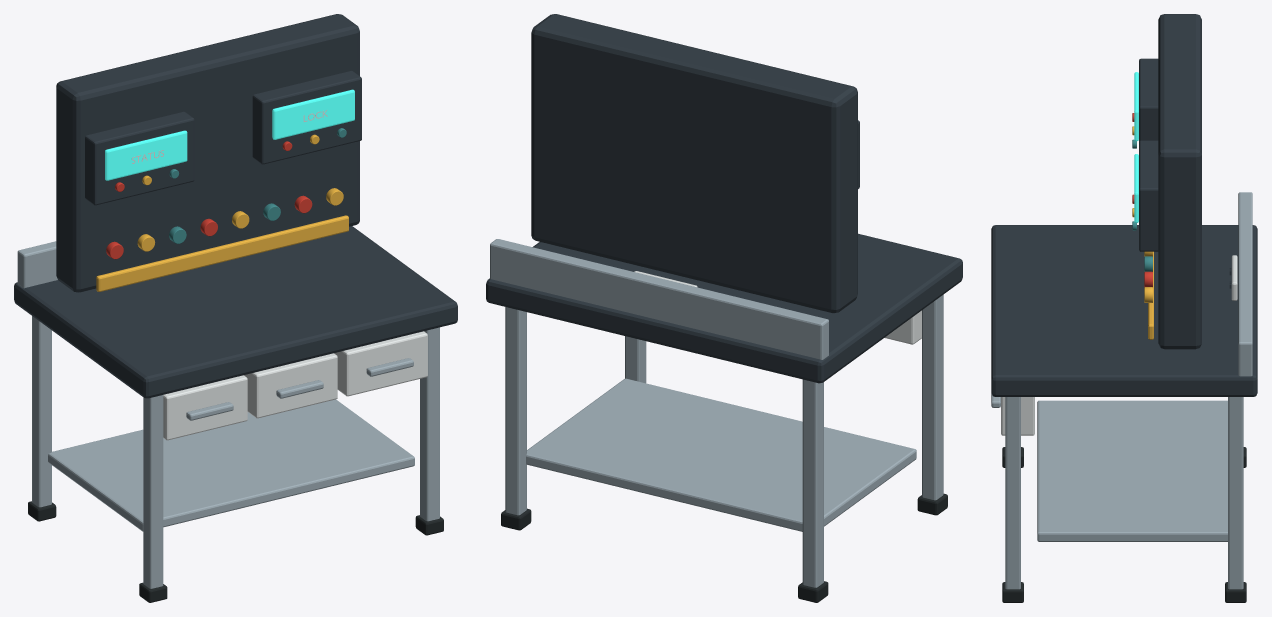
Rendered from safety-console.glb.
3 renders of one model, left to right at view 1: azimuth 30°, elevation 25°; view 2: azimuth 150°, elevation 25°; view 3: azimuth 270°, elevation 25°, orthographic. The views are drawn at different scales.
Visible parts, largest first — view 1: Control panel, Worktop, Equipment shelf, Display housing, Display housing.001, Warning strip, Tubular leg, Cabinet drawer.001, Cabinet drawer.002, Tubular leg.001, Cabinet drawer, Tubular leg.002 (+3 smaller); view 2: Control panel, Equipment shelf, Worktop, Splashback, Tubular leg.001, Tubular leg.003, Tubular leg, Tubular leg.002, Cabinet drawer; view 3: Worktop, Equipment shelf, Control panel, Tubular leg.002, Tubular leg.003, Splashback, Display housing.001, Display housing, Cabinet drawer.002.
Part boxes in pixels (x1,y1,x2,y2): Control panel: [56, 14, 359, 292]; Worktop: [14, 226, 457, 398]; Equipment shelf: [48, 399, 414, 531]; Display housing: [85, 111, 194, 205]; Display housing.001: [252, 71, 361, 164]; Warning strip: [96, 215, 348, 291]; Tubular leg: [143, 395, 163, 588]; Cabinet drawer.001: [244, 353, 337, 418]; Cabinet drawer.002: [334, 331, 427, 396]; Tubular leg.001: [32, 316, 51, 507]; Cabinet drawer: [163, 375, 247, 440]; Tubular leg.002: [420, 327, 439, 521]; Control panel: [531, 14, 857, 313]; Equipment shelf: [526, 378, 916, 531]; Worktop: [486, 233, 962, 383]; Splashback: [490, 239, 828, 359]; Tubular leg.001: [802, 379, 823, 587]; Tubular leg.003: [505, 307, 526, 515]; Tubular leg: [922, 294, 943, 500]; Tubular leg.002: [625, 336, 646, 383]; Cabinet drawer: [884, 310, 921, 344]; Worktop: [991, 225, 1257, 396]; Equipment shelf: [1037, 400, 1227, 541]; Control panel: [1158, 14, 1201, 349]; Tubular leg.002: [1005, 397, 1020, 589]; Tubular leg.003: [1228, 397, 1243, 589]; Splashback: [1238, 192, 1252, 376]; Display housing.001: [1139, 140, 1158, 251]; Display housing: [1139, 58, 1158, 141]; Cabinet drawer.002: [1001, 397, 1034, 435].
Bounding box in the file's own units: 1.5 × 2.05 × 1.1.
